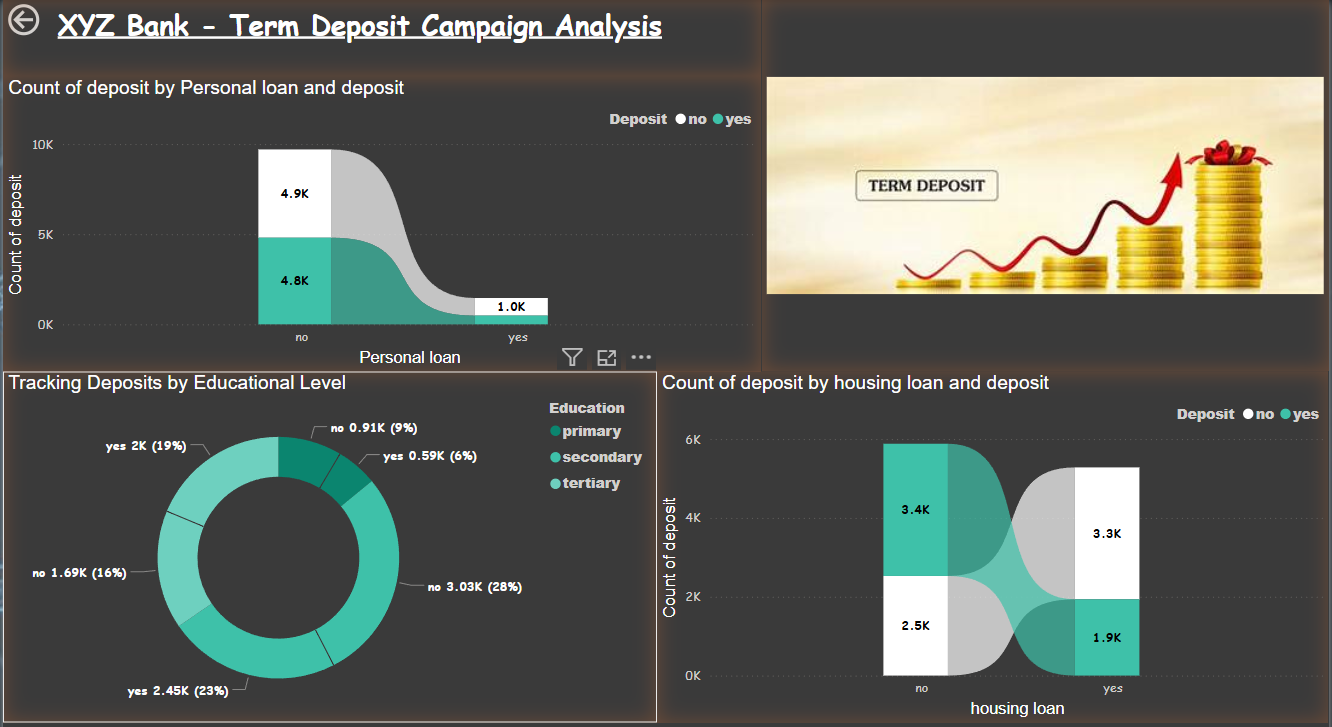

What the dashboard file says about the page in this screenshot:
{"tool":"powerbi","page":{"name":"TD_Analysis_by_Cus_Financial_Level","canvas":[1280,720],"ordinal":2},"visuals":[{"type":"ribbonChart","fields":{"Category":["BANK MARKET ANALYSE DATA.housing loan"],"Y":["CountNonNull(BANK MARKET ANALYSE DATA.deposit)"],"Series":["BANK MARKET ANALYSE DATA.deposit"]},"box":[631,359.5,649.1,339],"z":0},{"type":"ribbonChart","fields":{"Category":["BANK MARKET ANALYSE DATA.Personal loan"],"Y":["CountNonNull(BANK MARKET ANALYSE DATA.deposit)"],"Series":["BANK MARKET ANALYSE DATA.deposit"]},"box":[0,74.8,732.3,284.7],"z":1000},{"type":"donutChart","title":"Tracking Deposits by Educational Level","fields":{"Category":["BANK MARKET ANALYSE DATA.education"],"Y":["CountNonNull(BANK MARKET ANALYSE DATA.deposit)"],"Series":["BANK MARKET ANALYSE DATA.deposit"]},"box":[0,359.5,631,339],"z":2000},{"type":"image","box":[732.3,0,547.7,359.5],"z":3000},{"type":"actionButton","box":[0,0,100,40],"z":4001},{"type":"textbox","box":[0,0,732.3,74.8],"z":5501}]}

Visuals, with their boxes on the page's 1280x720 design canvas (x1, y1, x2, y2). These are canvas units, not pixel positions in the 1332x727 screenshot, which may show the page scaled, cropped or inside an application window:
ribbonChart - BANK MARKET ANALYSE DATA.housing loan x CountNonNull(BANK MARKET ANALYSE DATA.deposit): locate(631, 360, 1280, 698)
ribbonChart - BANK MARKET ANALYSE DATA.Personal loan x CountNonNull(BANK MARKET ANALYSE DATA.deposit): locate(0, 75, 732, 360)
"Tracking Deposits by Educational Level" donutChart: locate(0, 360, 631, 698)
image: locate(732, 0, 1280, 360)
actionButton: locate(0, 0, 100, 40)
textbox: locate(0, 0, 732, 75)
